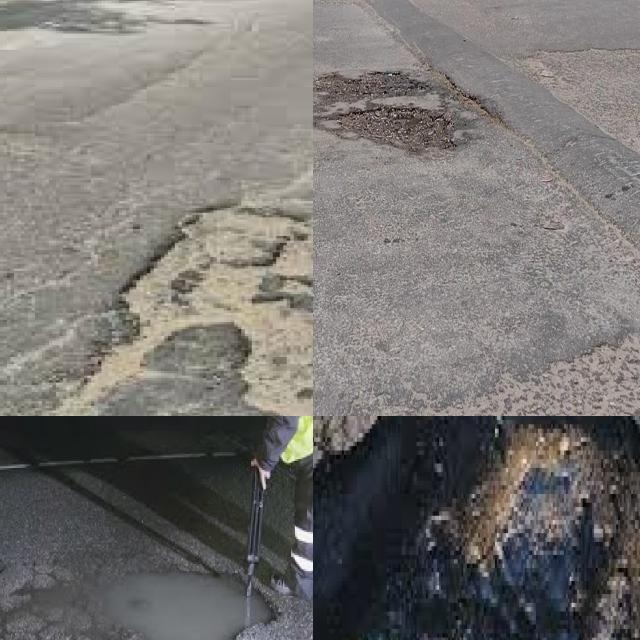Pothole: (313, 416, 640, 640), (324, 67, 451, 149), (119, 182, 210, 294), (103, 572, 246, 640), (234, 227, 313, 346)
